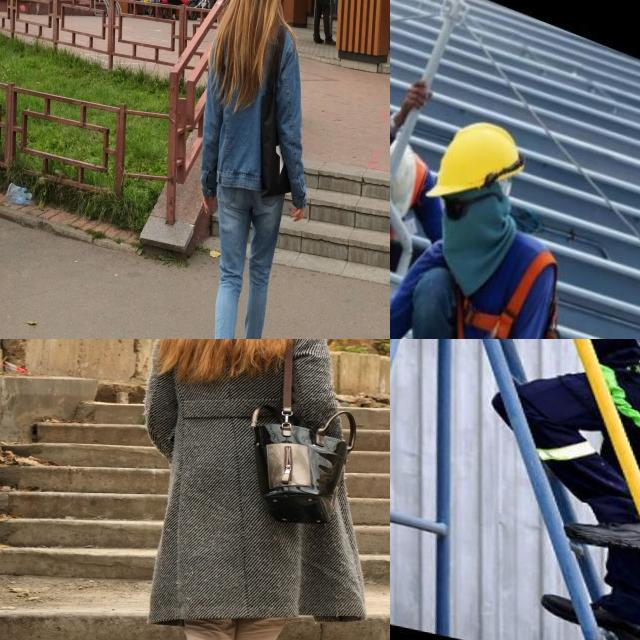Harness: (460, 246, 560, 339)
